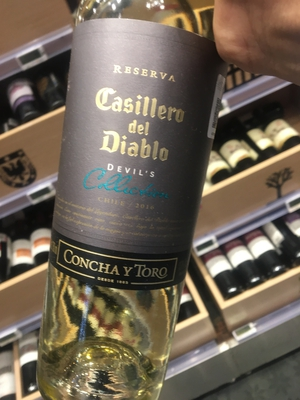casillero del diablo devils collection verde: (42, 6, 228, 394)
